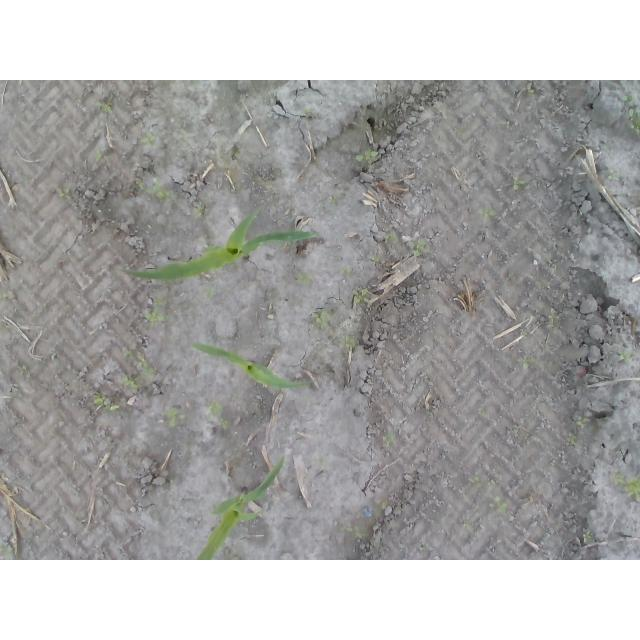Maize: (117, 213, 317, 283), (195, 454, 285, 560), (190, 342, 314, 392)
Weeds: (125, 350, 156, 379), (615, 473, 640, 503), (623, 95, 640, 129), (143, 297, 165, 323), (335, 525, 364, 540), (149, 177, 168, 199), (95, 397, 120, 412), (354, 148, 378, 163), (311, 310, 329, 329), (352, 288, 369, 304), (477, 207, 495, 221), (411, 238, 425, 255), (339, 336, 357, 349), (296, 272, 313, 285), (120, 376, 136, 389), (167, 409, 178, 427), (517, 355, 531, 369), (141, 132, 156, 145), (56, 187, 72, 199), (512, 175, 525, 189), (577, 417, 592, 429), (497, 497, 508, 513), (209, 402, 225, 413), (96, 103, 112, 113), (218, 418, 230, 431), (383, 432, 394, 446), (469, 476, 481, 488), (339, 267, 351, 278), (566, 433, 576, 446), (622, 351, 631, 364), (95, 149, 104, 162), (195, 207, 206, 217), (386, 234, 396, 242), (370, 257, 380, 265), (583, 531, 594, 538), (528, 88, 535, 96)
